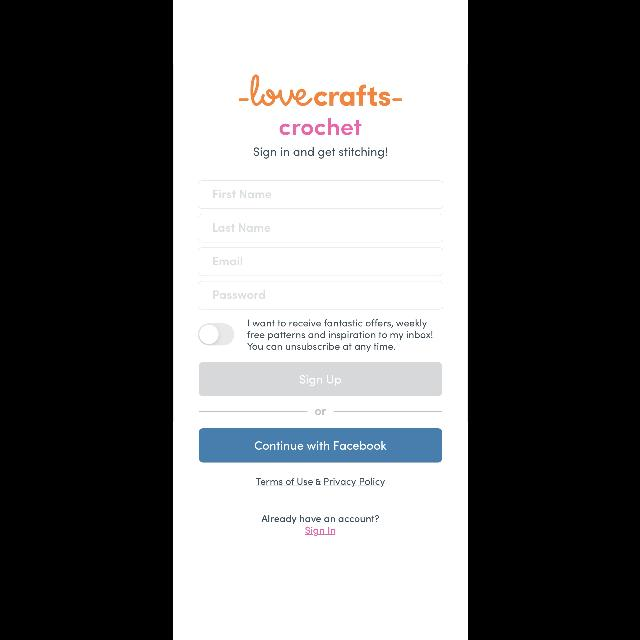image: (238, 74, 402, 106)
input: (197, 281, 443, 309), (197, 248, 443, 276), (197, 214, 443, 242), (197, 181, 443, 209)
switch: (197, 323, 233, 345)
text: (246, 320, 432, 352), (279, 118, 361, 136), (253, 148, 387, 158), (261, 514, 379, 524), (256, 478, 384, 487), (212, 290, 264, 300), (212, 224, 270, 232), (212, 190, 270, 198), (212, 256, 242, 266), (305, 526, 335, 536), (314, 409, 326, 415)
textbutton: (198, 428, 442, 462), (198, 362, 442, 396)
